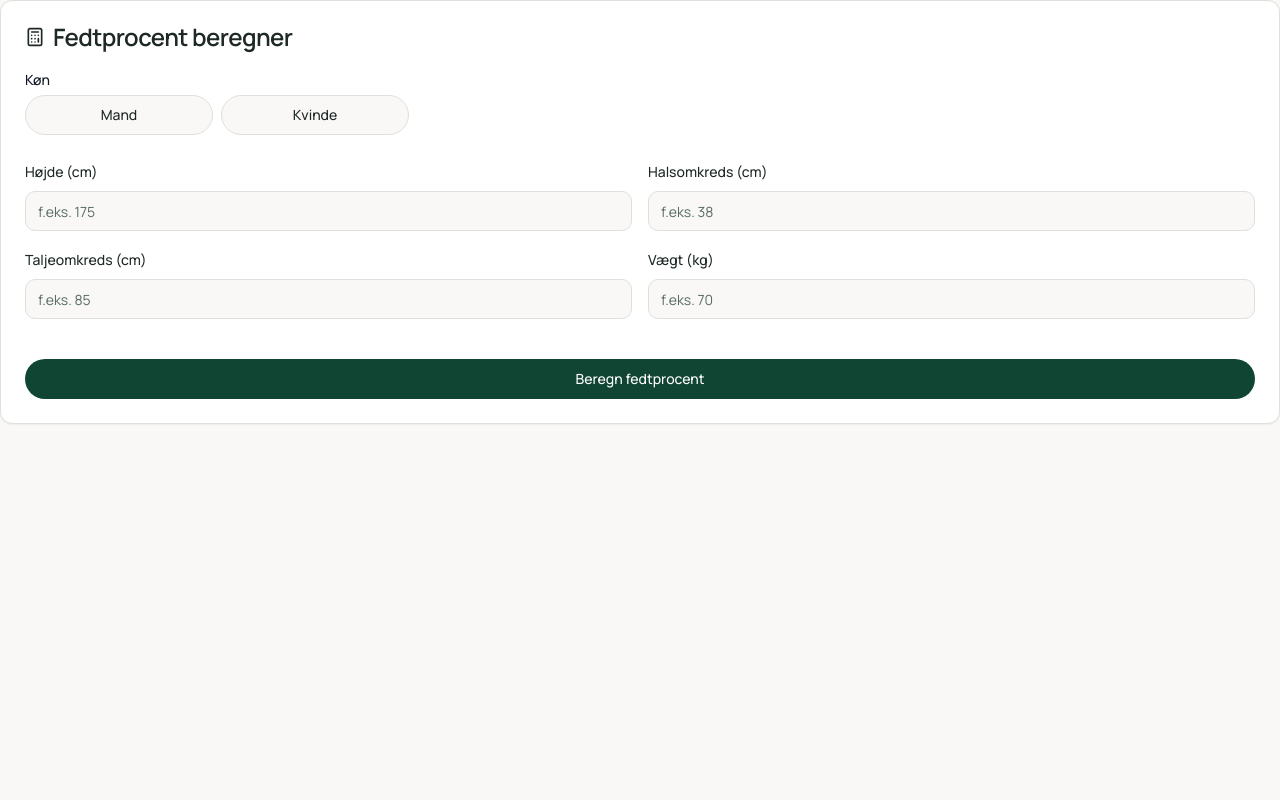
BodyFatCalculator › shows the category table for the sex and offers the result as an image without the measurements
Click the button "Mand" at {"x": 119, "y": 115}, box [25,95,213,135]
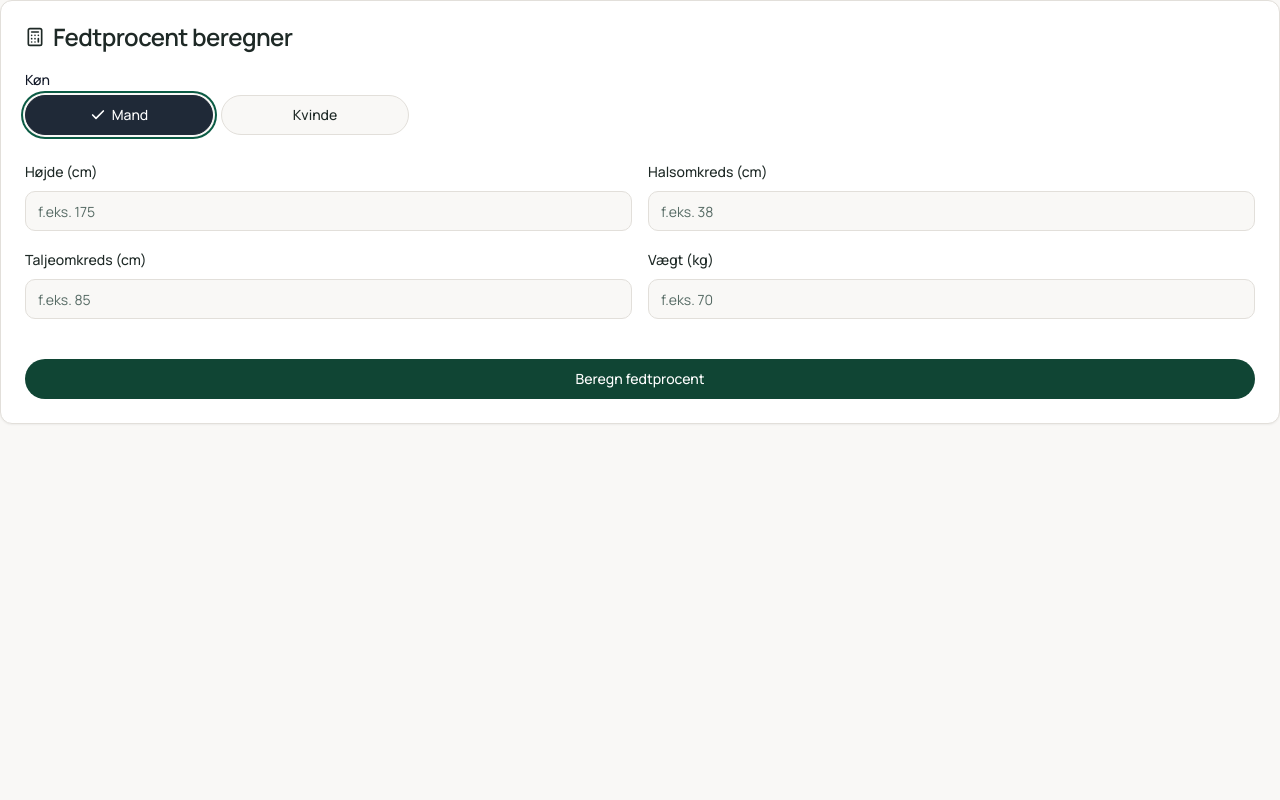
Type "180" into the field labelled "Højde (cm)" at {"x": 328, "y": 211}, box [25,191,632,231]
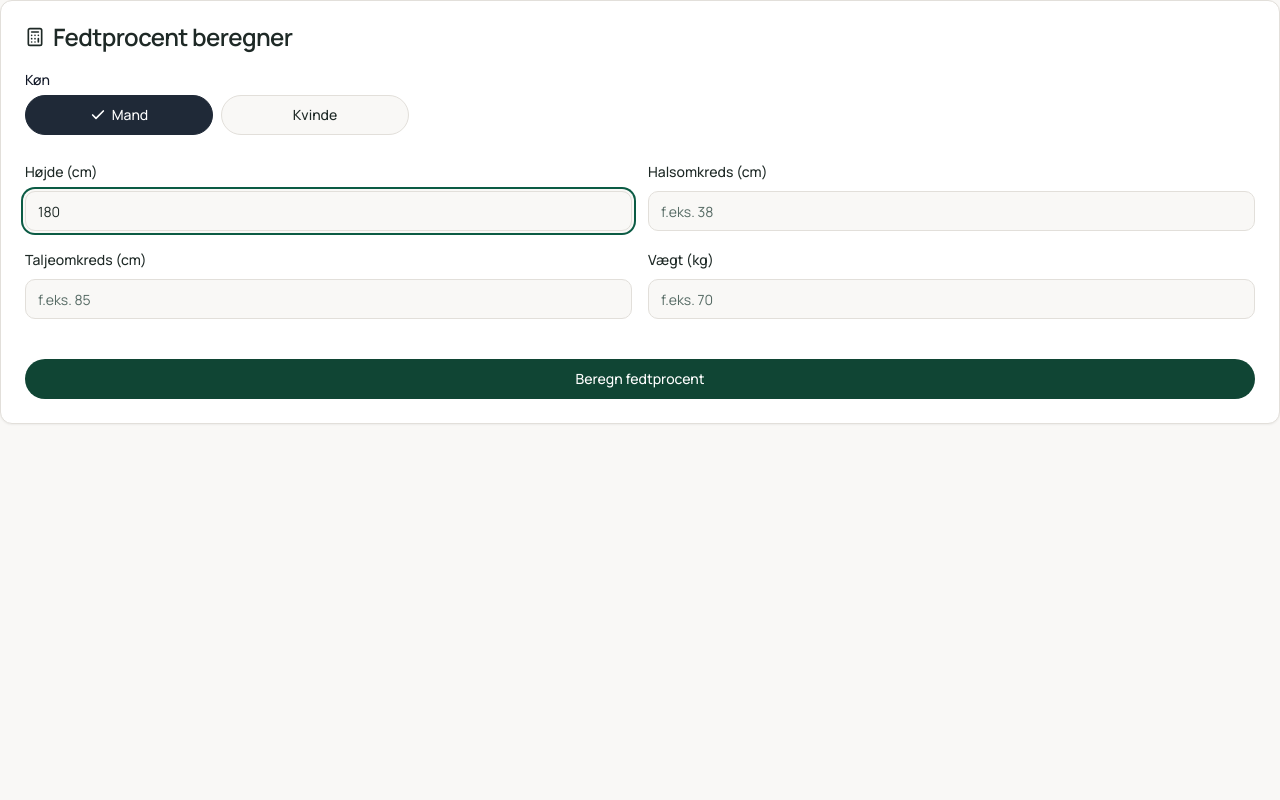
Type "38" into the field labelled "Halsomkreds (cm)" at {"x": 952, "y": 211}, box [648,191,1255,231]
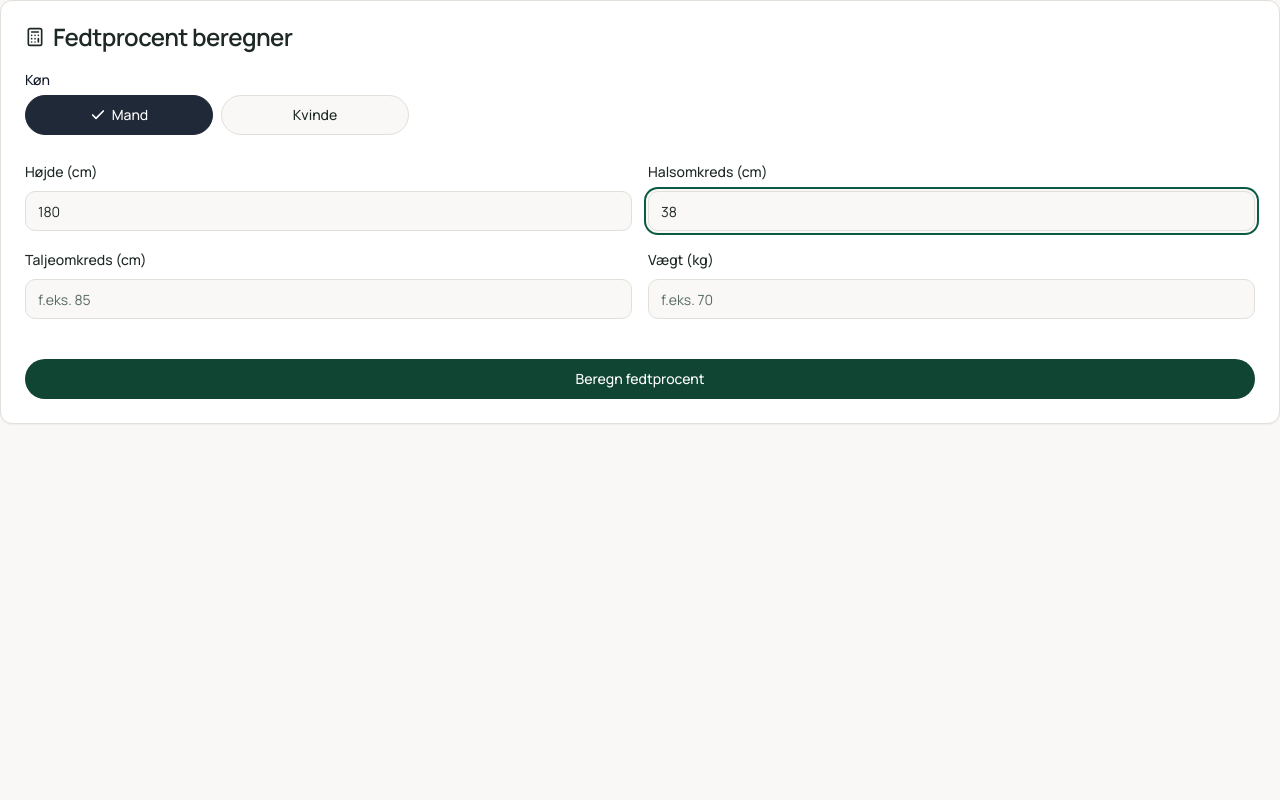
Type "85" into the field labelled "Taljeomkreds (cm)" at {"x": 328, "y": 299}, box [25,279,632,319]
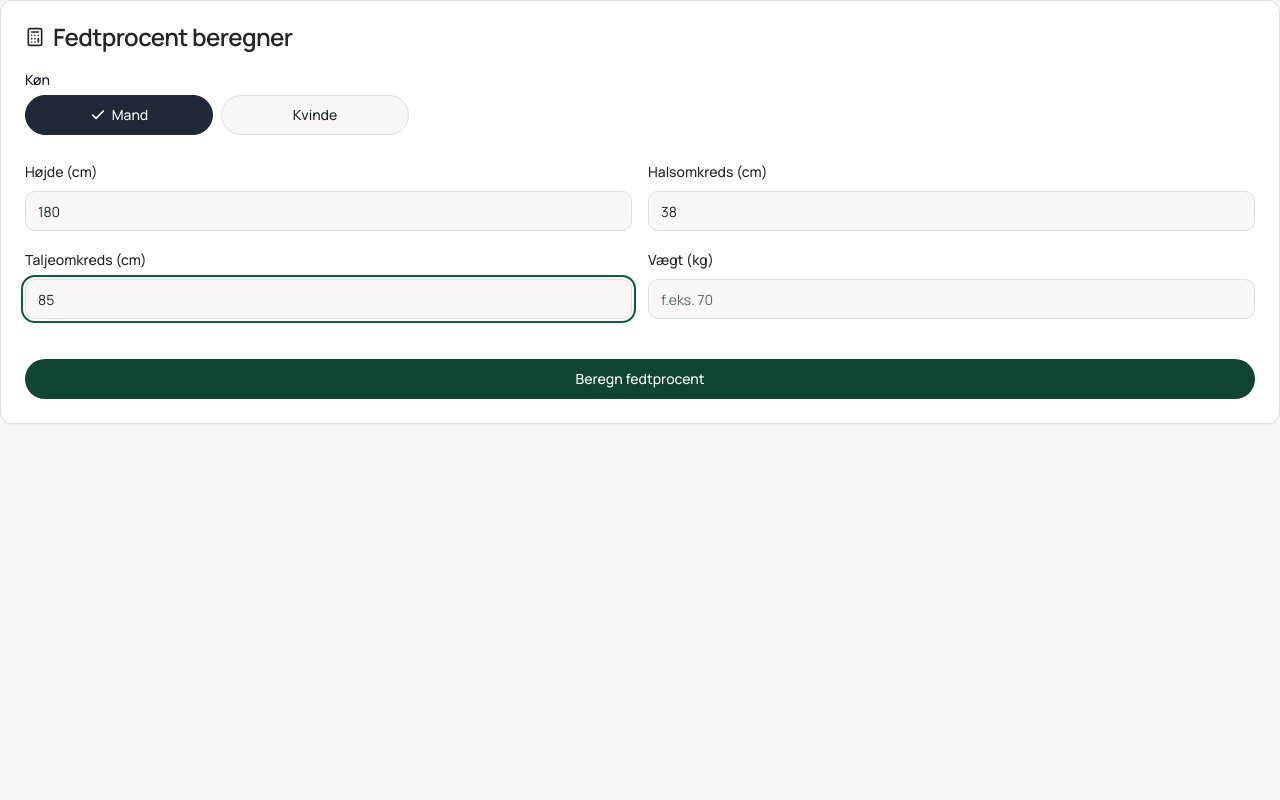
Type "80" into the field labelled "Vægt (kg)" at {"x": 952, "y": 299}, box [648,279,1255,319]
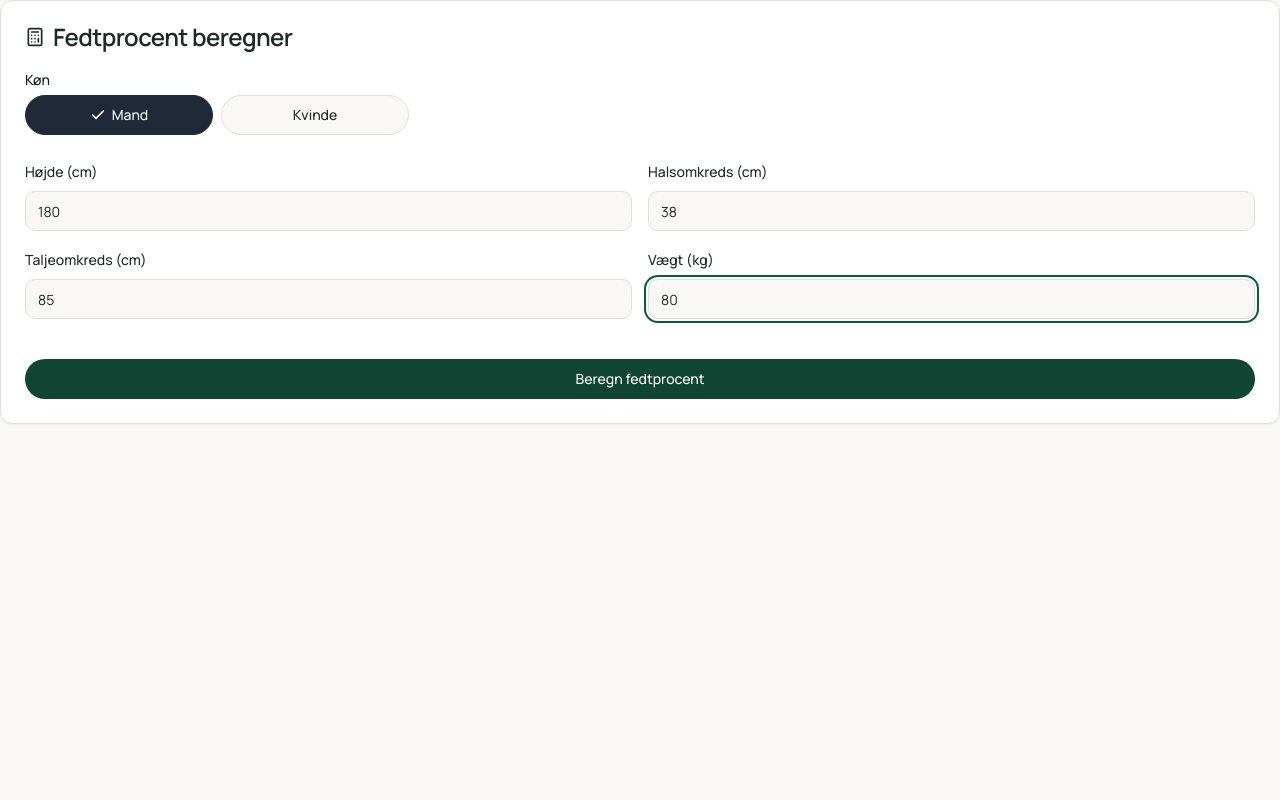
Click the button "Beregn fedtprocent" at {"x": 640, "y": 379}, box [25,359,1255,399]
(page scrolled)
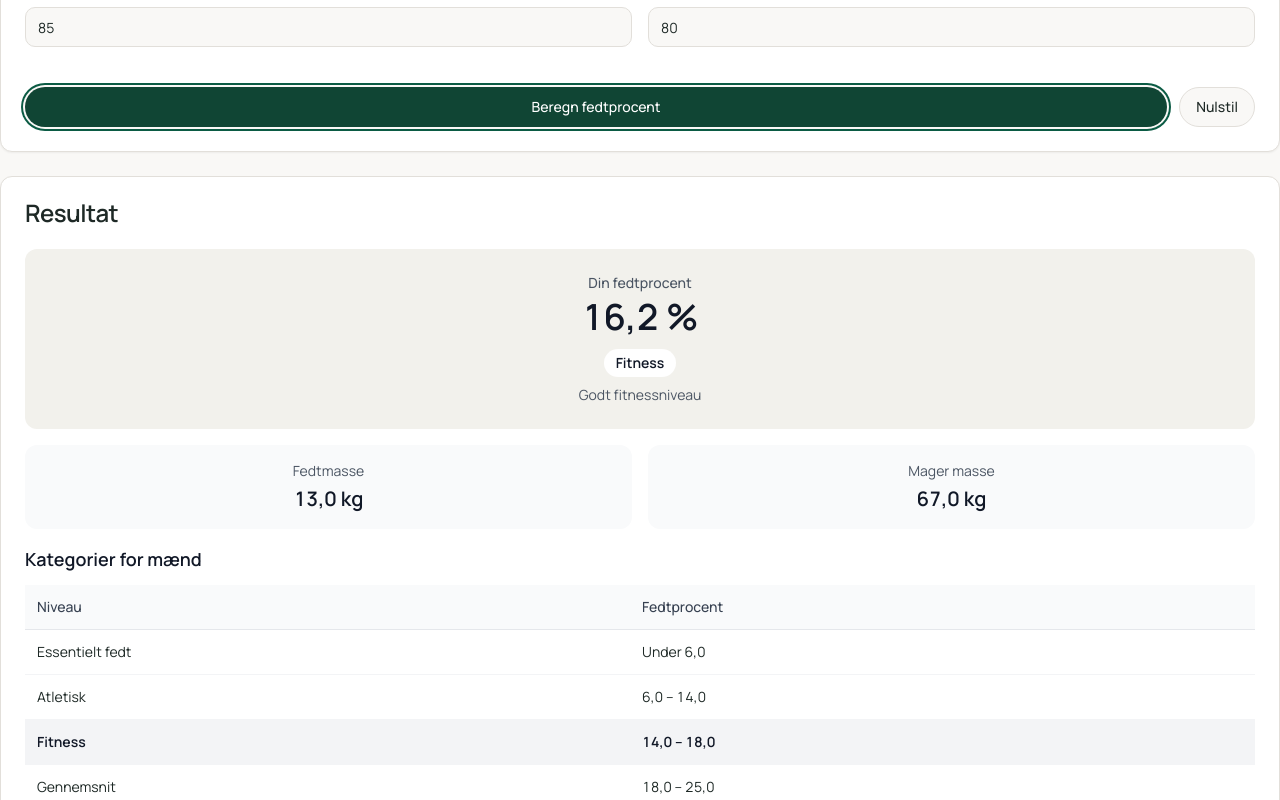
Expected: the heading "Kategorier for mænd" is shown, [25,547,202,571]
